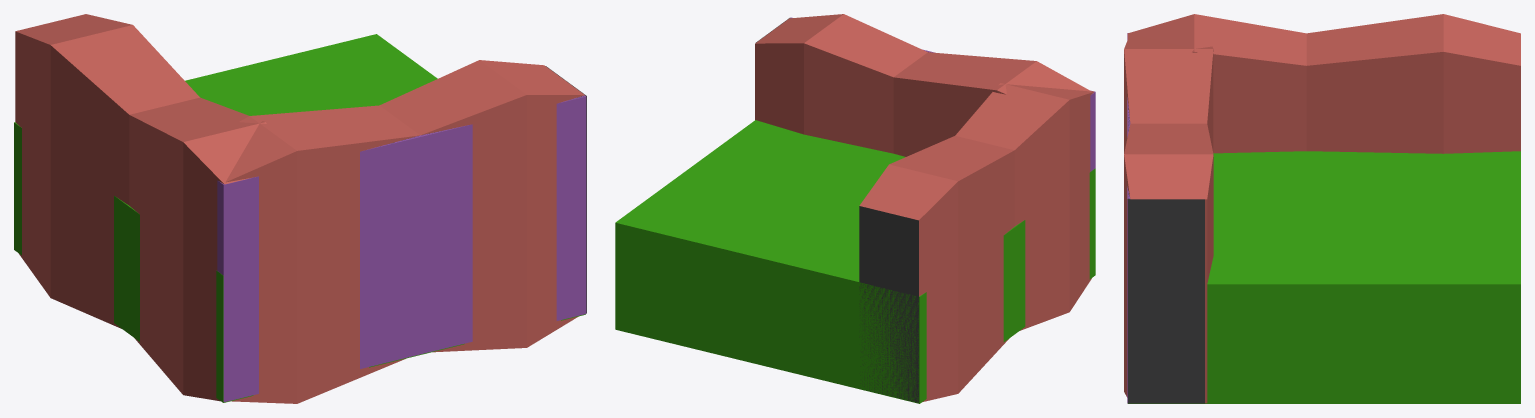
Rendered from TileSet.glb.
The picture shows the model from 3 angles, left to right: view 1: azimuth 30°, elevation 25°; view 2: azimuth 150°, elevation 25°; view 3: azimuth 270°, elevation 25°; orthographic projection. The views are drawn at different scales.
Parts seen in each view (by area): view 1: Fence_c, Fence, Stone_c, Grass; view 2: Grass, Fence, Fence_c, Wall, Stone_c; view 3: Grass, Fence, Fence_c, Wall_c.
Boxes of the visible parts, box(x1,y1,x2,y2) form: Fence_c: box(221, 60, 584, 403); Fence: box(15, 14, 266, 401); Stone_c: box(217, 95, 586, 402); Grass: box(14, 34, 585, 402); Grass: box(615, 120, 1095, 403); Fence: box(859, 82, 1094, 401); Fence_c: box(755, 14, 1091, 156); Wall: box(859, 206, 918, 402); Stone_c: box(790, 17, 1095, 171); Grass: box(1127, 151, 1520, 403); Fence: box(1127, 14, 1520, 153); Fence_c: box(1124, 33, 1213, 403); Wall_c: box(1128, 108, 1204, 403).
Bounding box in the file's own units: 2.03 × 1.33 × 2.02.
